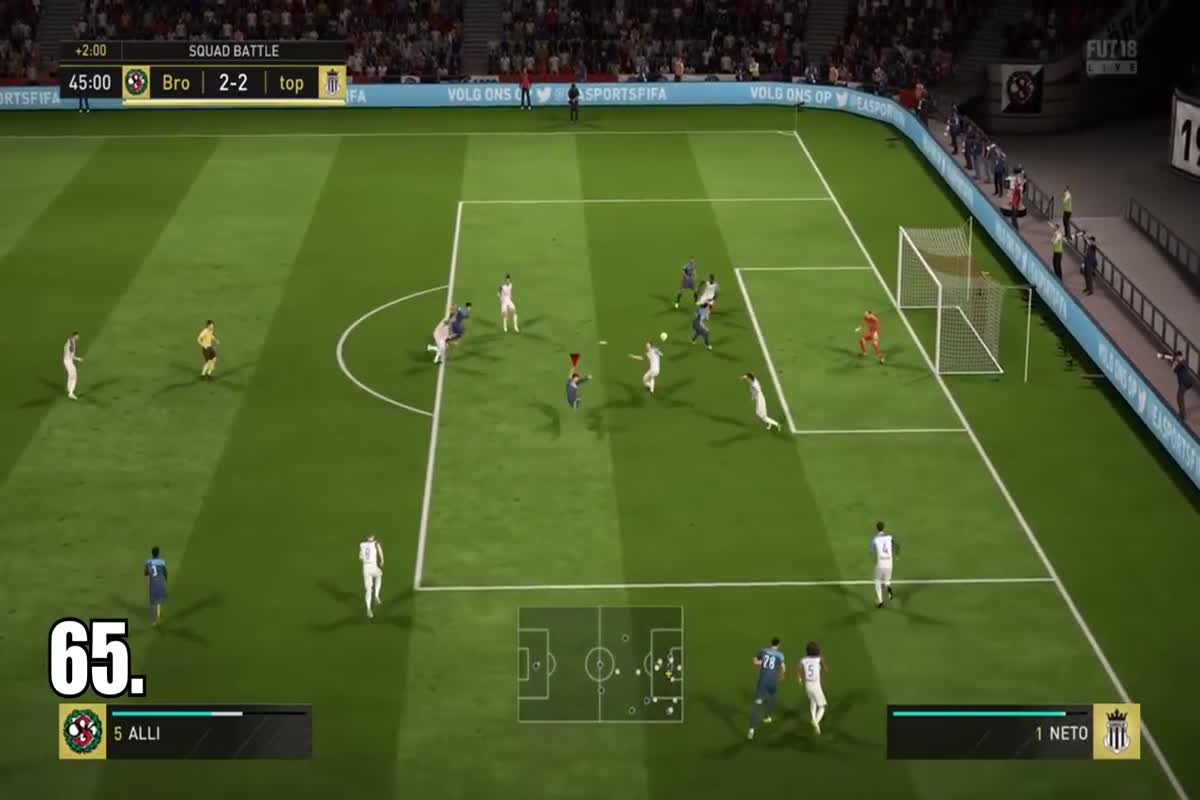ball: (654, 325, 675, 346)
